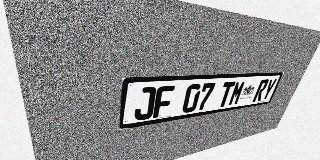0: (181, 84, 202, 114)
7: (195, 83, 216, 111)
F: (153, 85, 175, 118)
J: (134, 87, 157, 121)
M: (228, 81, 246, 106)
R: (252, 79, 269, 102)
T: (216, 81, 236, 108)
Y: (260, 79, 277, 101)
